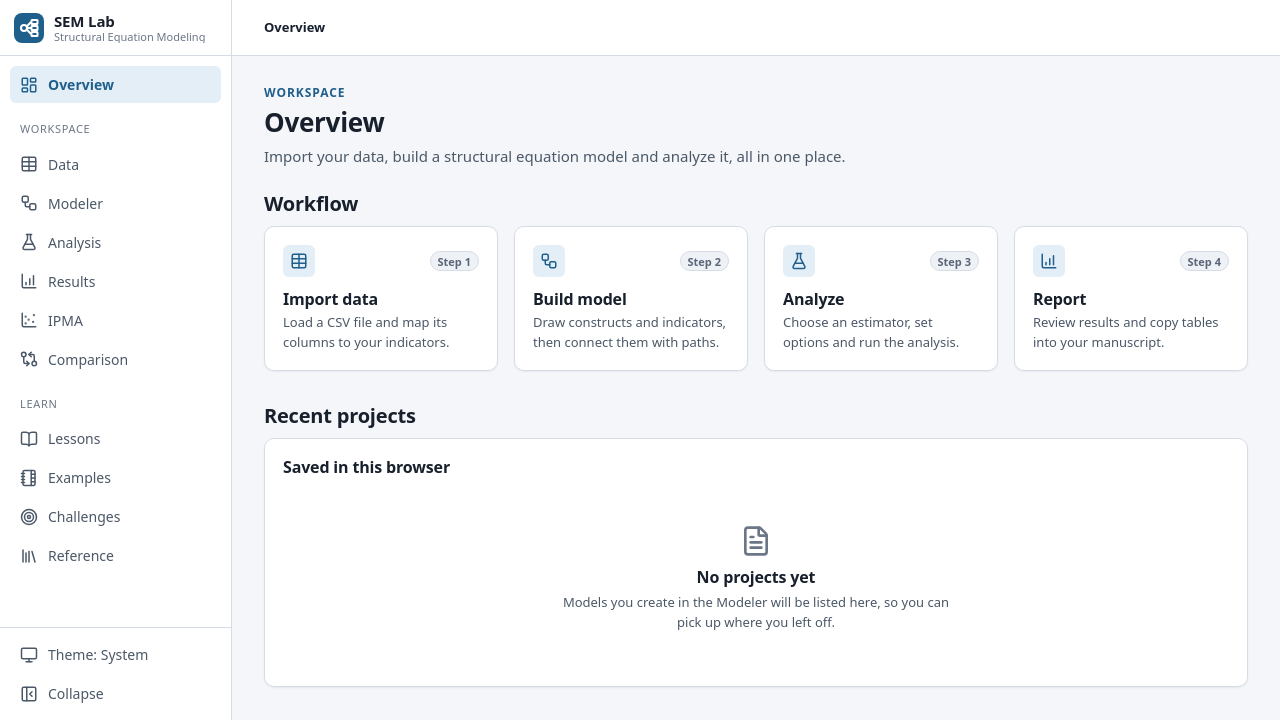
Test: sidebar collapse › toggles, persists, and restores on the next mount
The width and height of the screenshot is (1280, 720).
Later steps or results of the test are not shown.
Click the button with aria-label "Collapse sidebar". click: click(116, 694)
box: [10,675,221,712]
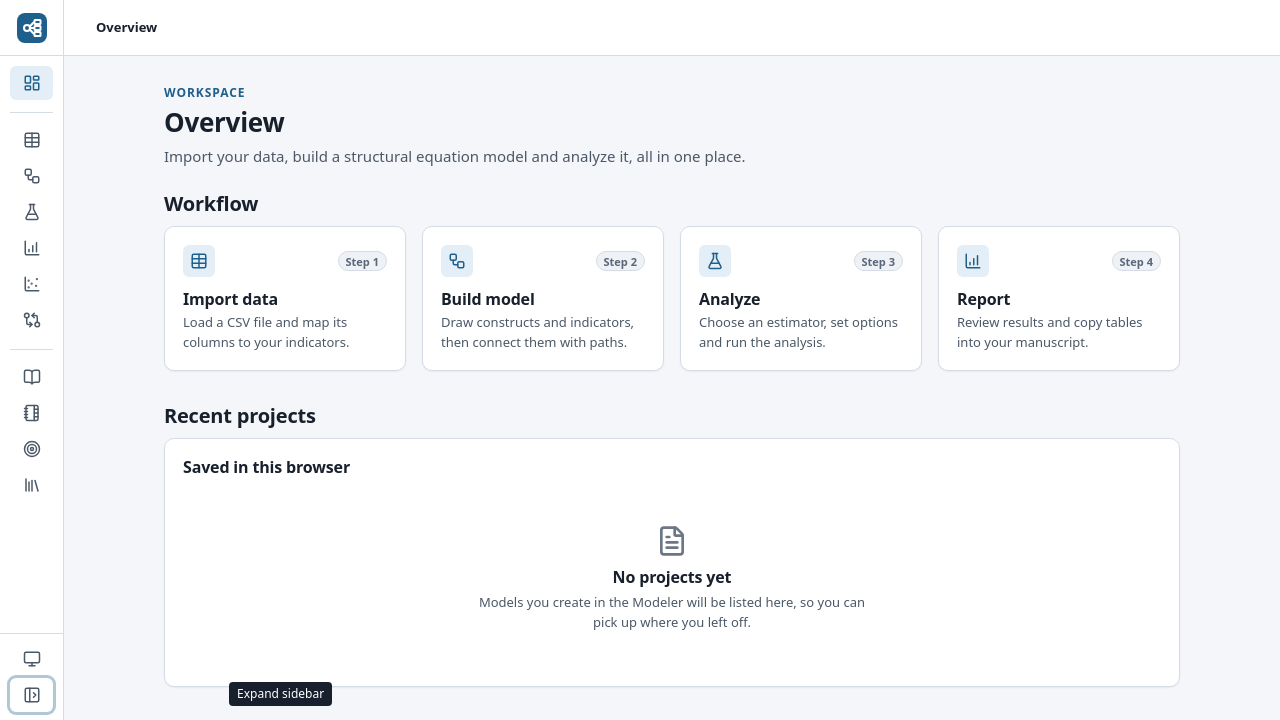
Expected: the 3rd link named "Modeler" is shown, [10,159,53,193]
Now the element with class "shell" has attribute data-sidebar="collapsed"
